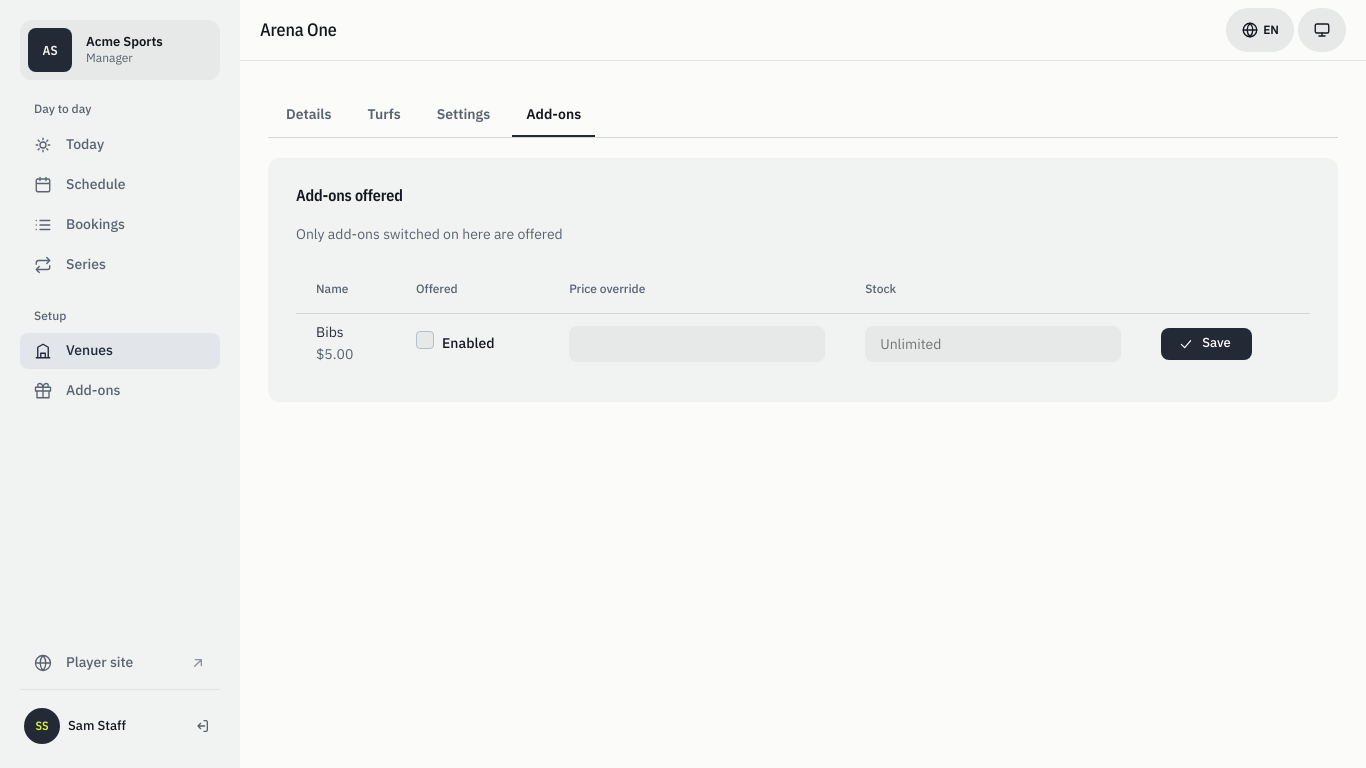
it: assignments › price_override_required is shown translated
The image size is (1366, 768).
Click the checkbox labelled "Enabled" at (425, 340), box [416,331,434,349]
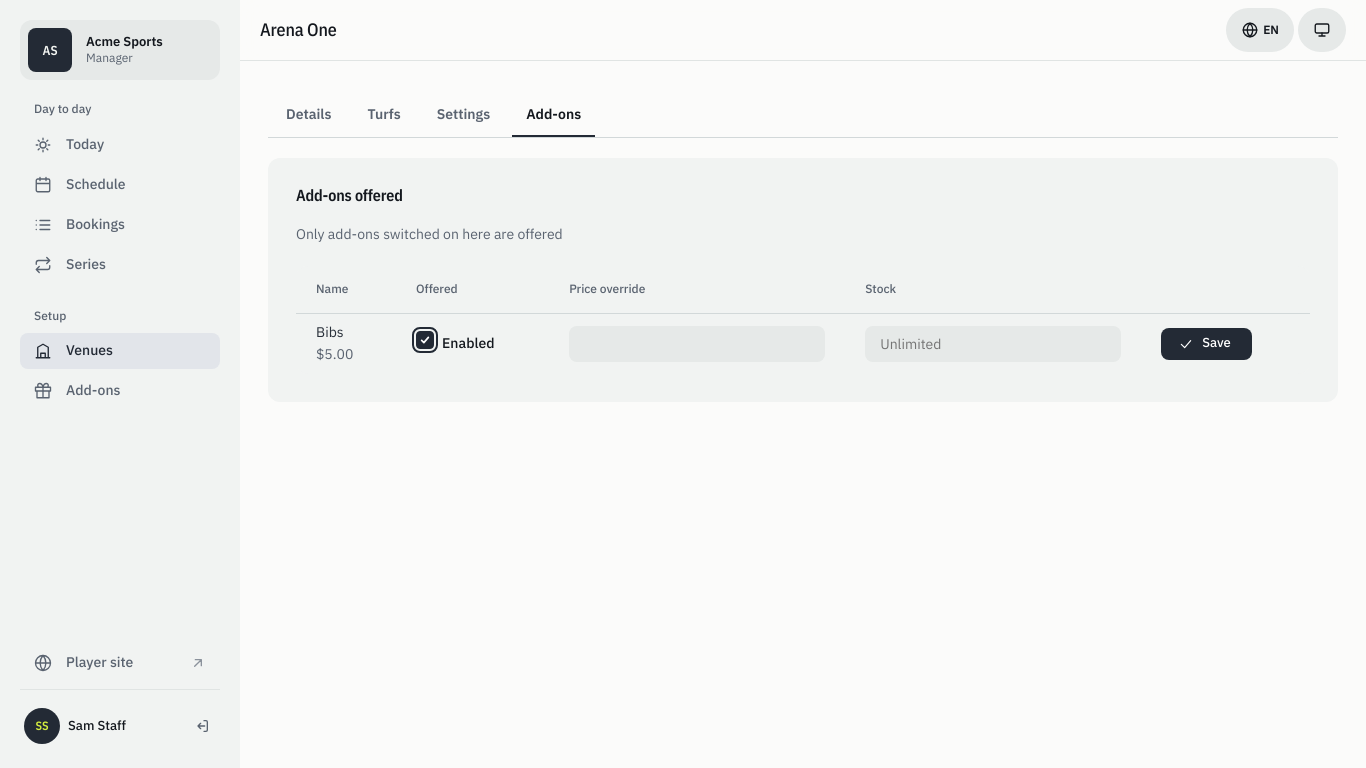
Click the button with aria-label "Save Bibs" at (1206, 344), box [1161,328,1252,360]
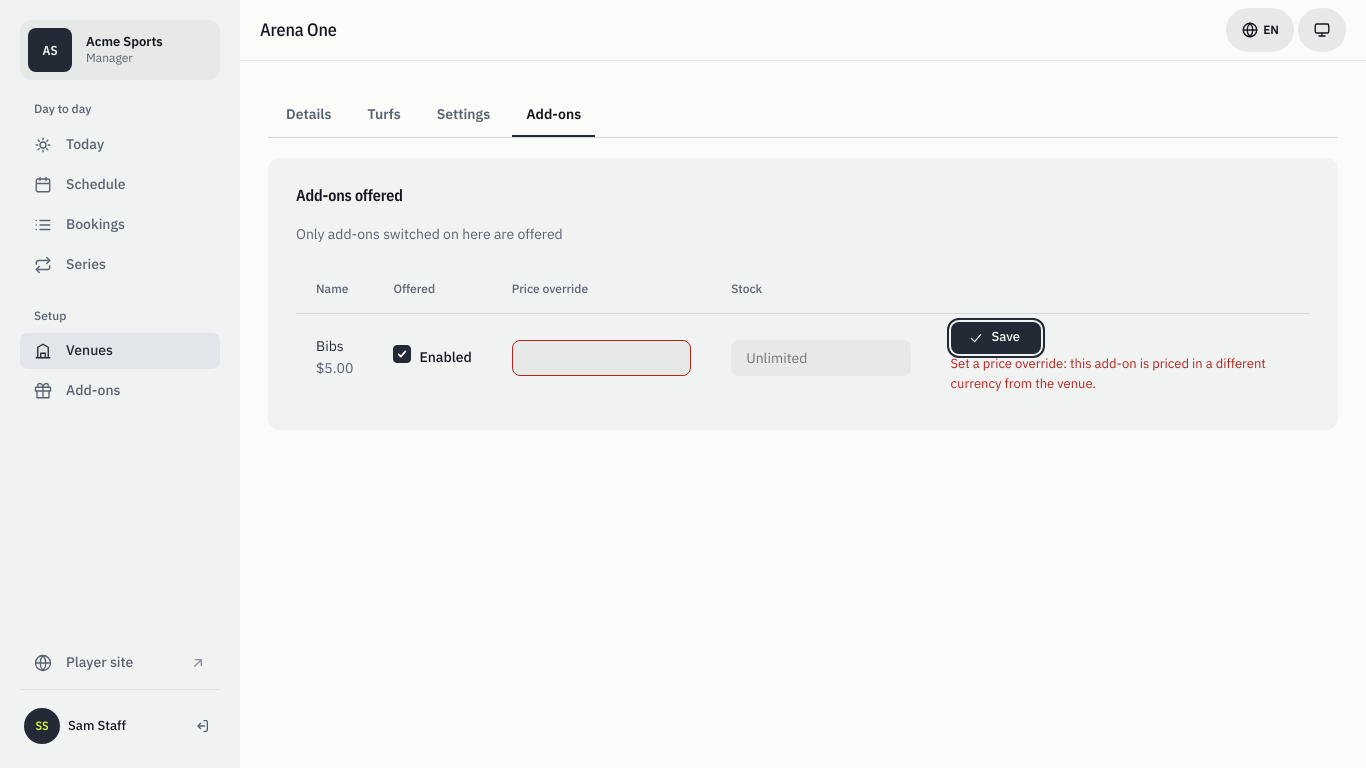
Result: the text "Set a price override: this add-on is priced in a different currency from the venue." is shown at [950,355,1266,392]
